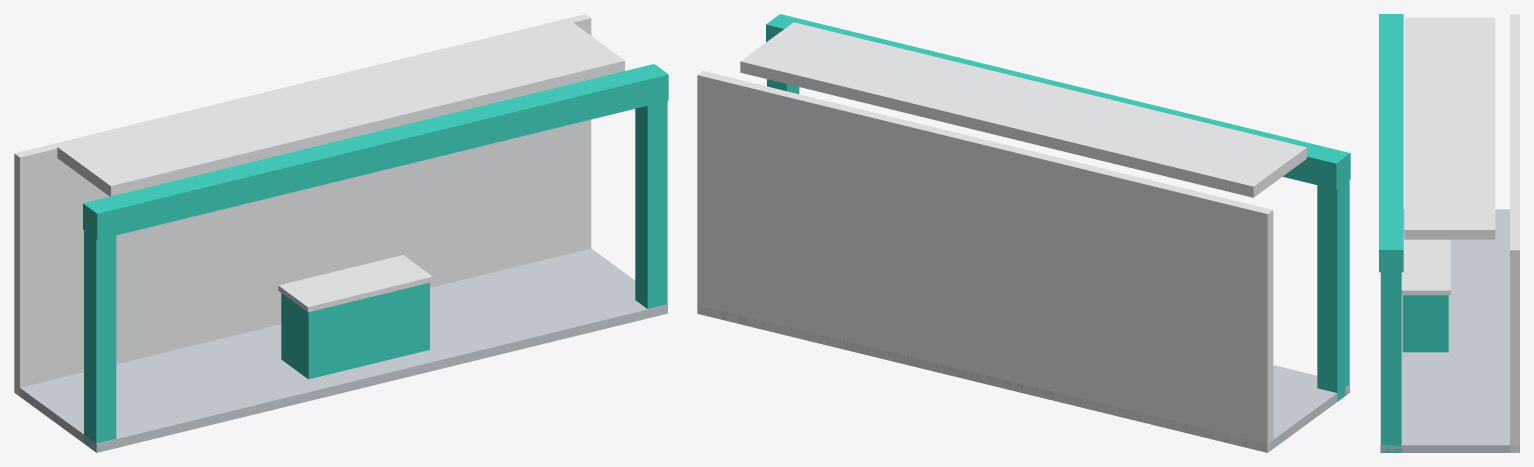
3 views of the same model, side by side, from view 1: azimuth 30°, elevation 25°; view 2: azimuth 150°, elevation 25°; view 3: azimuth 270°, elevation 25° (orthographic). The views are drawn at different scales.
Visible parts, largest first — view 1: Exhibition Booth Concept; view 2: Exhibition Booth Concept; view 3: Exhibition Booth Concept.
Boxes of the visible parts, x1=… form: Exhibition Booth Concept: x1=14, y1=14, x2=668, y2=452; Exhibition Booth Concept: x1=697, y1=14, x2=1350, y2=452; Exhibition Booth Concept: x1=1379, y1=14, x2=1519, y2=452.
Bounding box in the file's own units: 8 × 3.34 × 2.01.
